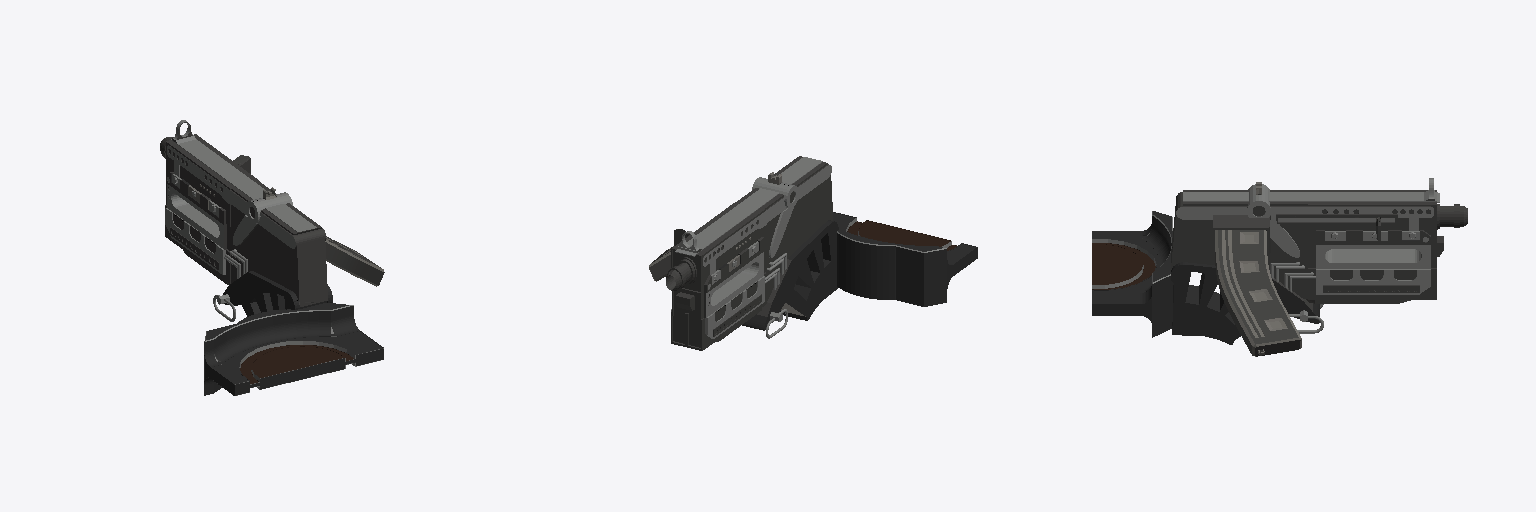
Rendered from tenmm_submachine.obj.
The picture shows the model from 3 angles: view 1: azimuth 30°, elevation 25°; view 2: azimuth 150°, elevation 25°; view 3: azimuth 270°, elevation 25°; orthographic projection.
Parts seen in each view (by area): view 1: Mesh04, Mesh113, Group3; view 2: Mesh04, Mesh113; view 3: Mesh04, Mesh113, Group3, Mesh117, Mesh116.
Boxes of the visible parts, <box> form: Mesh04: <box>160,134,332,316</box>; Mesh113: <box>204,303,383,395</box>; Group3: <box>325,236,384,286</box>; Mesh04: <box>666,156,838,350</box>; Mesh113: <box>833,212,977,306</box>; Mesh04: <box>1171,184,1467,344</box>; Mesh113: <box>1092,211,1173,337</box>; Group3: <box>1215,230,1301,356</box>; Mesh117: <box>1276,214,1397,244</box>; Mesh116: <box>1213,215,1270,253</box>.
Bounding box in the file's own units: 1.49 × 0.9742 × 2.1.